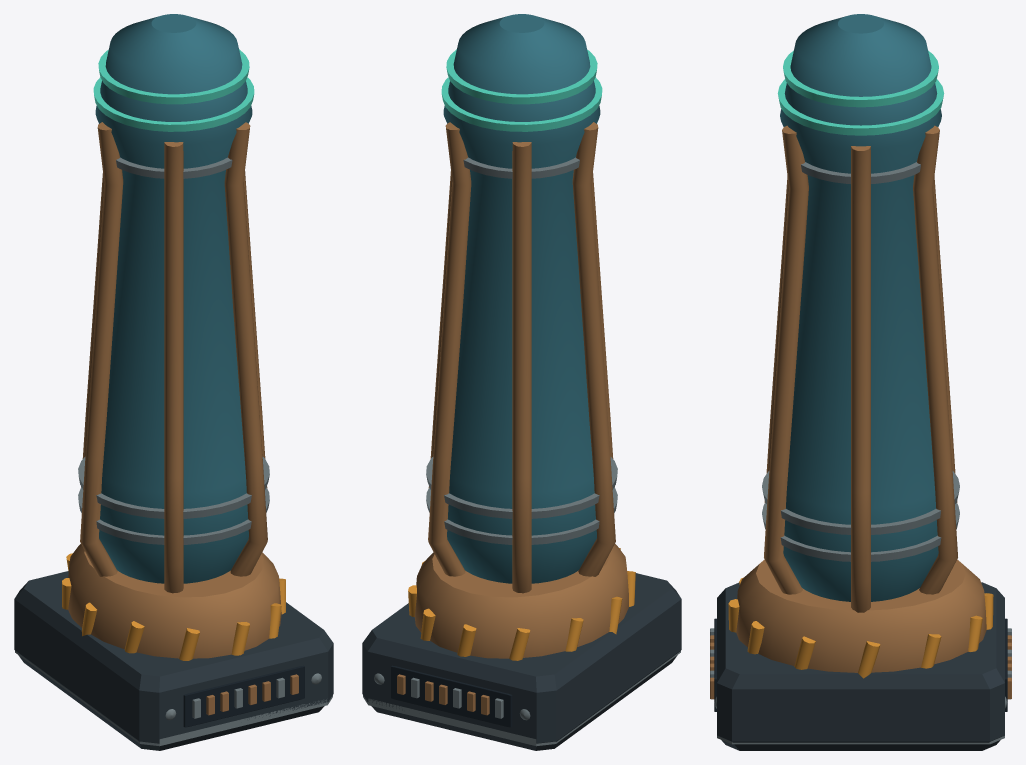
File: tower_thalassa.glb
3 views of the same model, side by side, from view 1: azimuth 30°, elevation 25°; view 2: azimuth 150°, elevation 25°; view 3: azimuth 270°, elevation 25° (orthographic). The views are drawn at different scales.
Parts seen in each view (by area): view 1: tower_thalassa; view 2: tower_thalassa; view 3: tower_thalassa.
Boxes of the visible parts, bbox=[...] form: tower_thalassa: bbox=[14, 14, 333, 750]; tower_thalassa: bbox=[362, 14, 681, 750]; tower_thalassa: bbox=[710, 14, 1011, 750].
Bounding box in the file's own units: 3.2 × 10.39 × 4.17.
